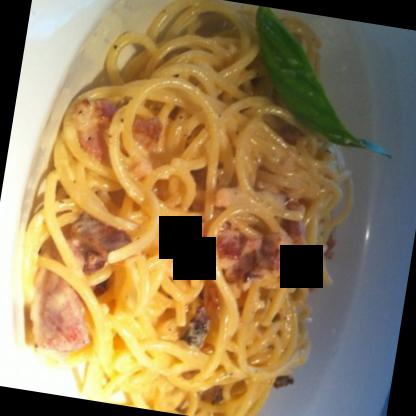pasta: (0, 0, 363, 415)
